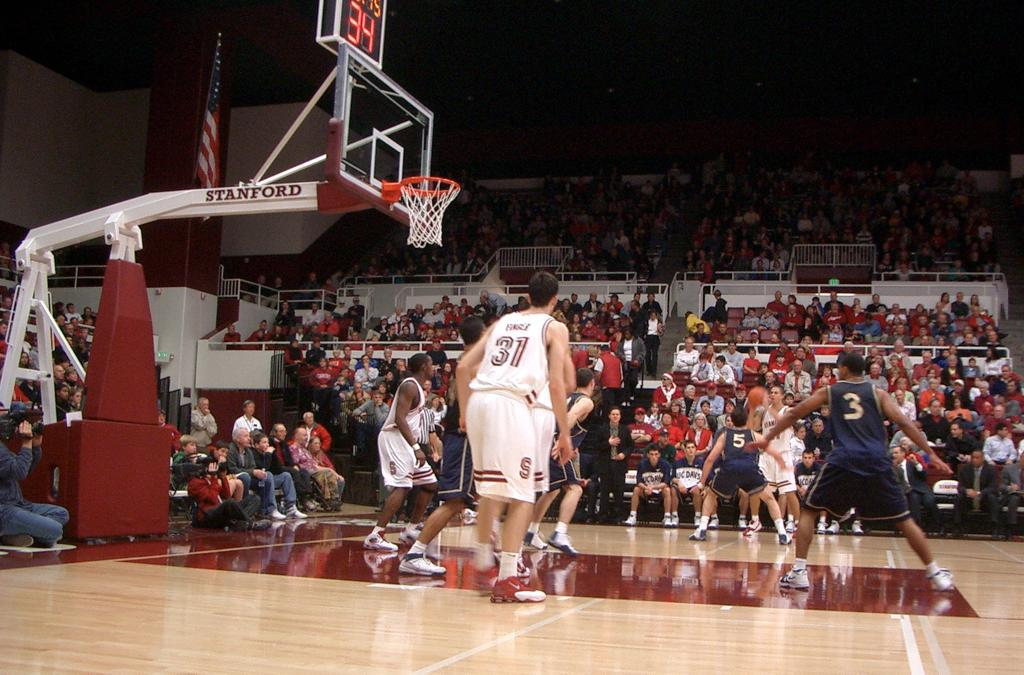face: (424, 356, 434, 378), (240, 430, 251, 446), (891, 448, 902, 463), (761, 392, 771, 408), (771, 388, 781, 403), (804, 454, 814, 469), (259, 437, 270, 450), (277, 426, 287, 440), (932, 401, 942, 415), (650, 451, 659, 466), (187, 442, 198, 454), (218, 447, 228, 460), (60, 386, 69, 400), (299, 430, 308, 444), (973, 452, 982, 466), (207, 463, 217, 475), (951, 424, 960, 437), (611, 410, 620, 422), (660, 432, 669, 444), (687, 444, 696, 456), (995, 407, 1004, 418), (158, 410, 165, 424), (56, 367, 64, 379), (247, 402, 255, 414), (799, 428, 807, 440), (814, 422, 823, 432), (697, 415, 705, 426), (726, 417, 734, 428), (896, 391, 904, 402), (313, 439, 320, 451), (74, 393, 83, 402), (70, 371, 78, 381), (664, 414, 672, 424), (636, 411, 644, 421), (766, 373, 774, 383), (786, 395, 794, 405), (902, 441, 910, 451), (898, 381, 906, 391), (794, 362, 802, 372), (202, 400, 209, 411), (737, 389, 744, 400), (1008, 382, 1015, 393), (871, 365, 879, 374), (22, 354, 29, 364), (63, 359, 70, 369), (662, 376, 669, 386), (652, 404, 659, 414), (726, 402, 733, 412), (923, 354, 930, 364), (929, 370, 936, 380), (1002, 427, 1009, 437), (2, 325, 8, 336), (67, 337, 73, 348), (375, 395, 383, 403), (67, 325, 74, 334), (313, 340, 320, 349), (426, 381, 433, 390), (708, 388, 715, 397), (954, 399, 961, 408), (433, 398, 439, 408), (1003, 367, 1009, 377), (342, 370, 349, 378), (672, 404, 679, 412), (990, 333, 997, 341), (876, 356, 883, 364), (967, 334, 972, 345), (5, 297, 11, 306), (451, 332, 457, 341), (689, 389, 695, 398), (703, 403, 709, 412), (721, 325, 727, 334), (687, 340, 693, 349), (798, 349, 804, 358), (950, 358, 956, 367), (955, 383, 961, 392), (368, 347, 373, 357), (292, 341, 299, 348), (363, 357, 370, 364), (338, 378, 345, 385), (307, 415, 313, 423), (399, 362, 405, 370), (345, 358, 351, 366), (564, 300, 570, 308), (708, 346, 714, 354), (761, 365, 767, 373), (822, 407, 828, 415), (805, 337, 811, 345), (832, 305, 838, 313), (846, 345, 852, 353), (890, 357, 896, 365), (923, 337, 929, 345), (931, 382, 937, 390), (980, 385, 986, 393), (321, 358, 326, 367), (391, 326, 396, 335), (446, 364, 451, 373), (730, 343, 735, 352), (987, 348, 992, 357), (991, 376, 996, 385), (229, 325, 235, 332), (438, 326, 444, 333), (434, 343, 440, 350), (353, 333, 359, 340), (386, 352, 392, 359), (387, 373, 393, 380), (345, 348, 351, 355), (356, 385, 362, 392), (778, 356, 784, 363), (772, 335, 778, 342), (824, 368, 830, 375), (966, 327, 972, 334), (987, 327, 993, 334), (896, 344, 902, 351), (86, 309, 91, 317), (326, 314, 331, 322), (431, 366, 436, 374), (380, 385, 385, 393), (446, 307, 451, 315), (575, 314, 580, 322), (699, 326, 704, 334), (752, 334, 757, 342), (937, 304, 942, 312), (823, 335, 828, 343), (82, 331, 88, 337), (411, 346, 417, 352), (808, 308, 814, 314), (921, 329, 927, 335), (69, 305, 74, 312), (73, 320, 78, 327), (313, 305, 318, 312), (283, 303, 288, 310), (312, 325, 317, 332), (334, 350, 339, 357), (434, 304, 439, 311), (428, 330, 433, 337), (404, 327, 409, 334), (625, 331, 630, 338), (737, 336, 742, 343), (750, 351, 755, 358), (790, 306, 795, 313), (807, 318, 812, 325), (874, 295, 879, 302), (899, 326, 904, 333), (944, 295, 949, 302), (939, 338, 944, 345), (976, 378, 981, 385), (717, 359, 721, 367), (894, 305, 898, 313), (952, 346, 956, 354), (88, 320, 93, 326), (298, 327, 303, 333), (402, 316, 407, 322), (374, 337, 379, 343), (507, 307, 512, 313), (480, 296, 485, 302), (635, 295, 640, 301), (592, 295, 597, 301), (588, 321, 593, 327), (854, 306, 859, 312), (918, 306, 923, 312), (920, 318, 925, 324), (576, 336, 581, 342), (262, 322, 266, 329), (397, 308, 401, 315), (417, 306, 421, 313), (651, 313, 655, 320), (632, 302, 636, 309), (613, 297, 617, 304), (615, 319, 619, 326), (610, 327, 614, 334), (776, 292, 780, 299), (750, 310, 754, 317), (832, 293, 836, 300), (958, 294, 962, 301), (354, 299, 359, 304), (944, 351, 949, 356), (340, 301, 344, 307), (383, 319, 387, 325), (454, 307, 458, 313), (649, 295, 653, 301), (603, 306, 607, 312), (701, 357, 705, 363), (767, 310, 771, 316), (790, 297, 794, 303), (872, 350, 876, 356), (910, 311, 914, 317), (283, 327, 287, 333), (973, 297, 976, 304), (520, 298, 524, 303), (573, 296, 577, 301), (879, 307, 883, 312), (895, 318, 899, 323), (971, 361, 975, 366), (622, 320, 625, 326), (626, 319, 629, 325), (607, 297, 610, 302), (856, 300, 859, 304)
